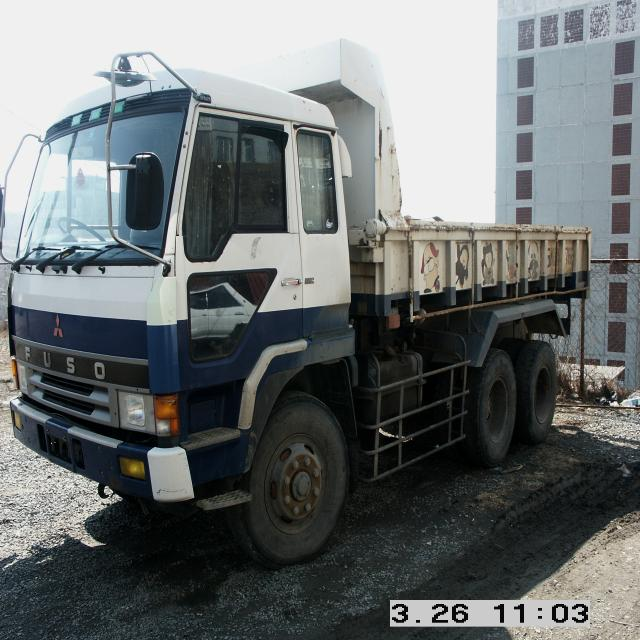truck: (1, 75, 594, 572)
